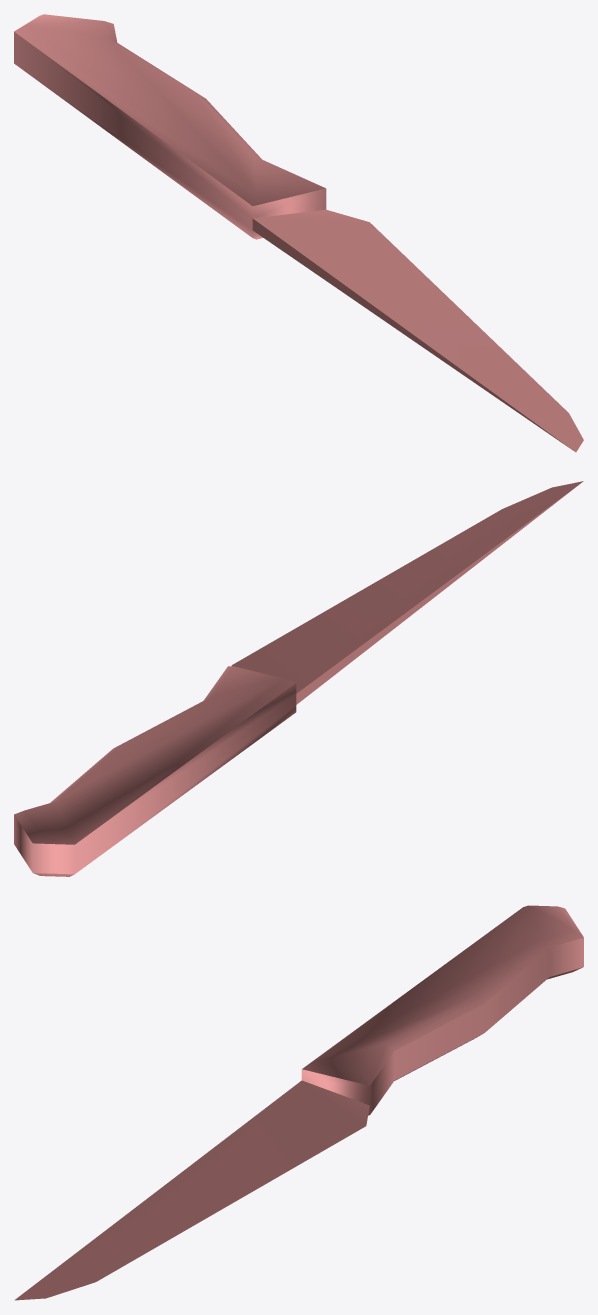
The model's file is TFYK_knife.FBX.
The picture shows the model from 3 angles, top to bottom: view 1: azimuth 30°, elevation 25°; view 2: azimuth 150°, elevation 25°; view 3: azimuth 330°, elevation 25°; orthographic projection. The views are drawn at different scales.
Visible parts, largest first — view 1: TFYK_knife; view 2: TFYK_knife; view 3: TFYK_knife.
Boxes of the visible parts, box(x1,y1,x2,y2) form: TFYK_knife: box(14, 14, 583, 452); TFYK_knife: box(14, 481, 583, 876); TFYK_knife: box(14, 905, 583, 1300).
Size of the model in its own units: 0.0202 by 0.0094 by 0.212.
